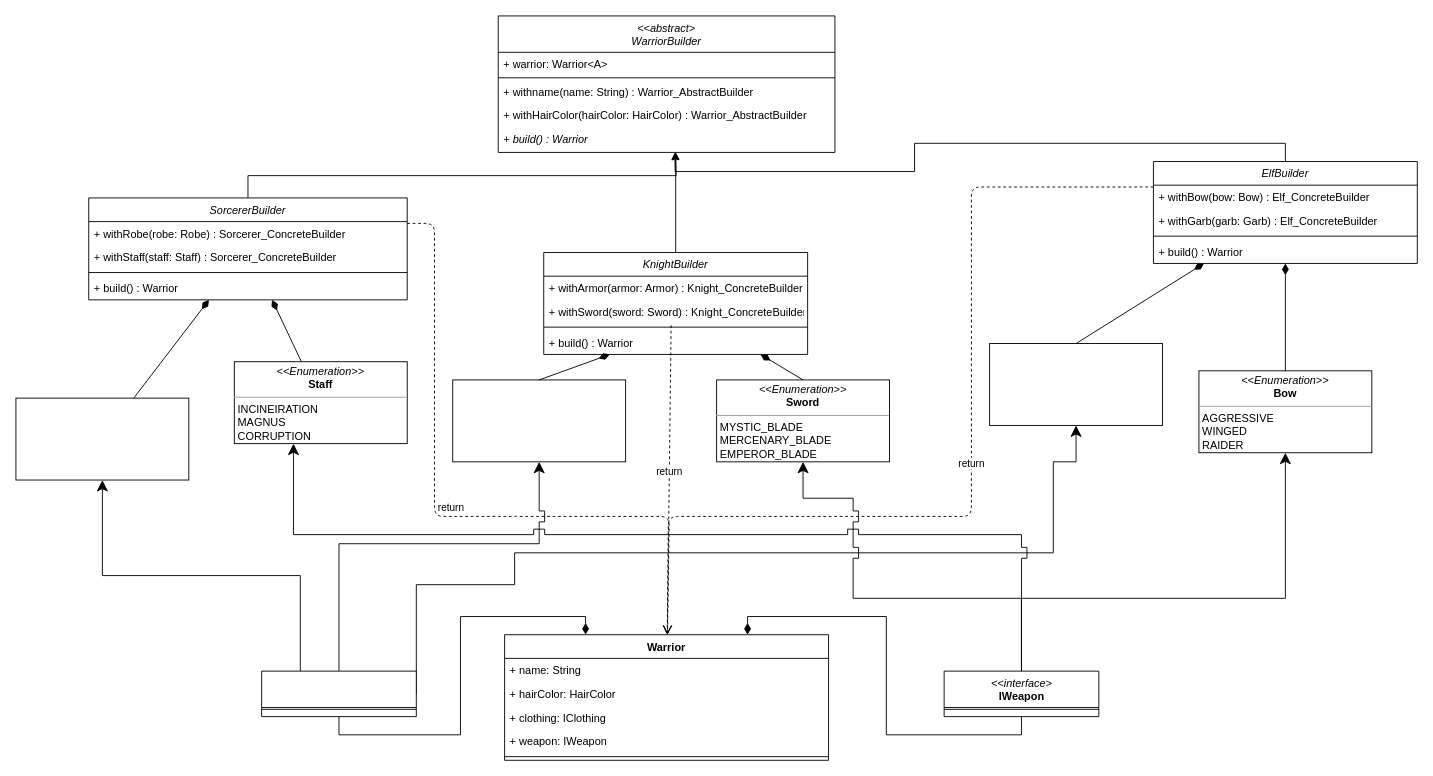
The diagram is 1433 pixels wide and 776 high, and some of its shapes have lost their labels. Here are the shapes that lost their labels. From the top down, the centre of each, then its label:
(1076,384): <<Enumeration>> Garb EXECUTIONER HUNTER FOREIGN
(102,438): <<Enumeration>> Robe MONK DARK_MYSTIC VELVET_RENAISSANCE
(539,420): <<Enumeration>> Armor HUNTER TEMPLAR MERCENARY
(338,693): <<interface> IClothing
